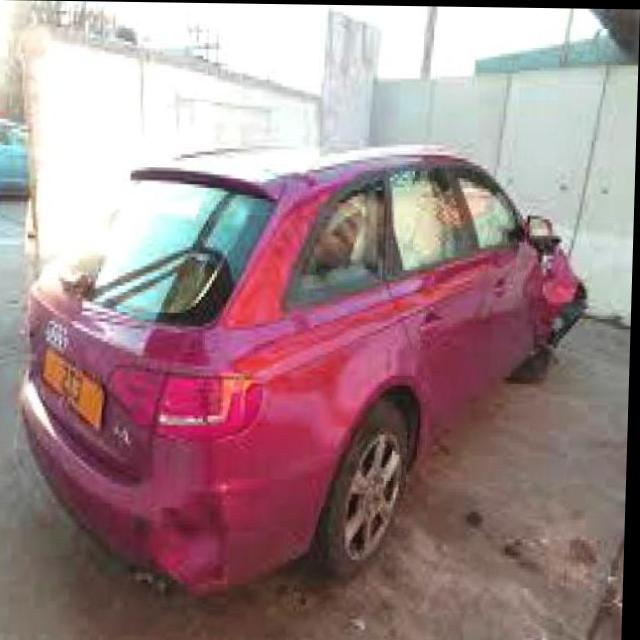Car-Damage: (137, 473, 234, 589), (530, 242, 598, 354)
